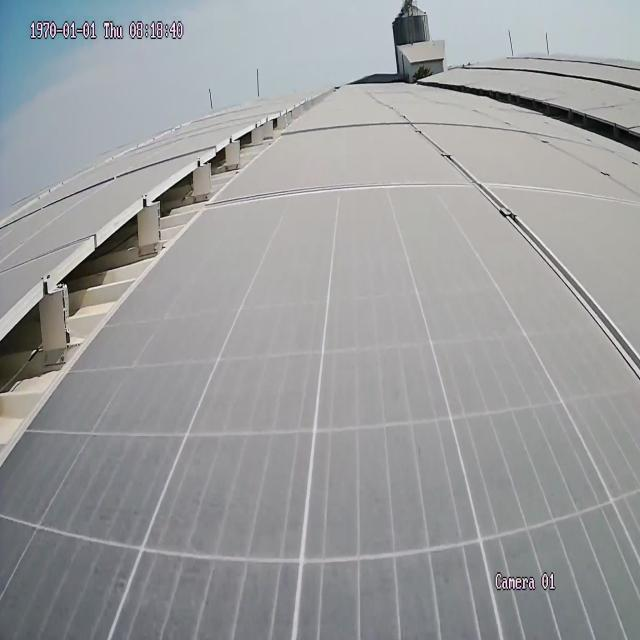interior panel: (411, 122, 639, 382)
outher panel: (0, 93, 331, 472), (454, 85, 640, 156)
